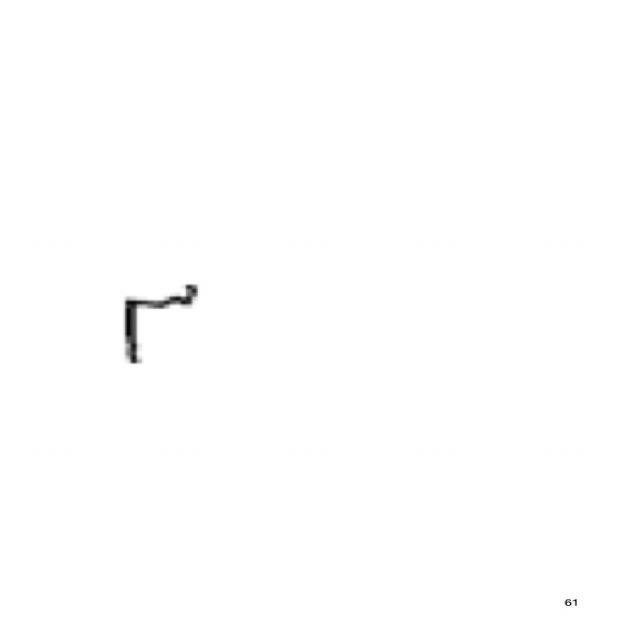3 -three-: (102, 266, 219, 374)
